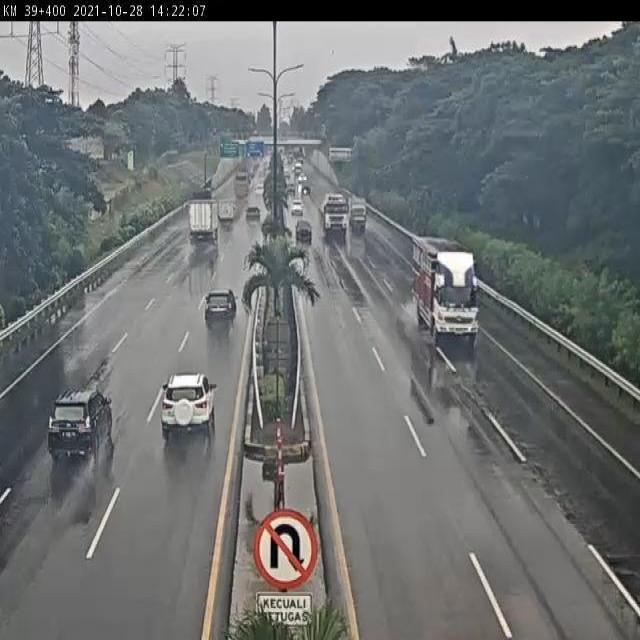car: (205, 290, 237, 326), (294, 217, 313, 243), (245, 207, 262, 224)
truck-l-: (413, 241, 477, 343), (186, 198, 218, 242)
truck-s-: (218, 196, 236, 225)
truck-xl-: (320, 192, 351, 233)
